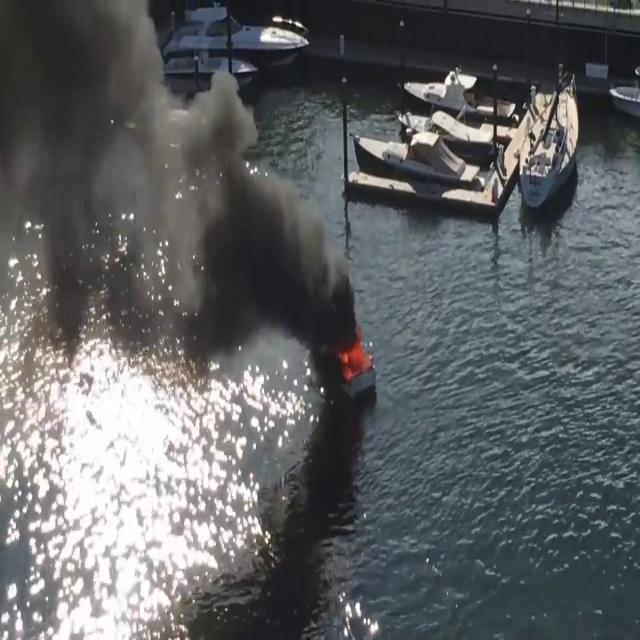Fire: (338, 334, 374, 379)
Smoke: (0, 0, 358, 374)
